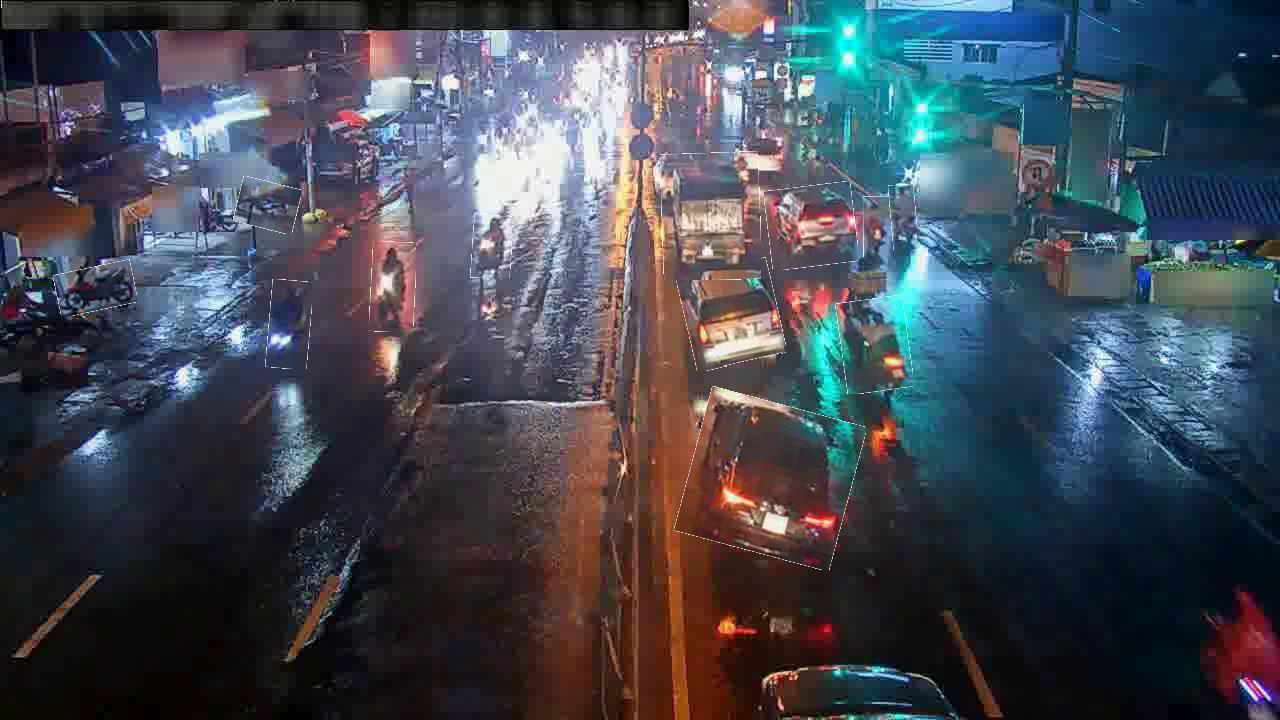8: (661, 152, 761, 281)
container: (683, 395, 859, 562), (681, 262, 783, 368), (766, 184, 857, 269)
motorbike: (838, 297, 911, 393), (55, 263, 137, 314), (370, 242, 416, 332), (267, 280, 312, 370), (236, 180, 300, 232), (471, 215, 512, 279), (864, 196, 892, 261), (890, 185, 917, 251)
